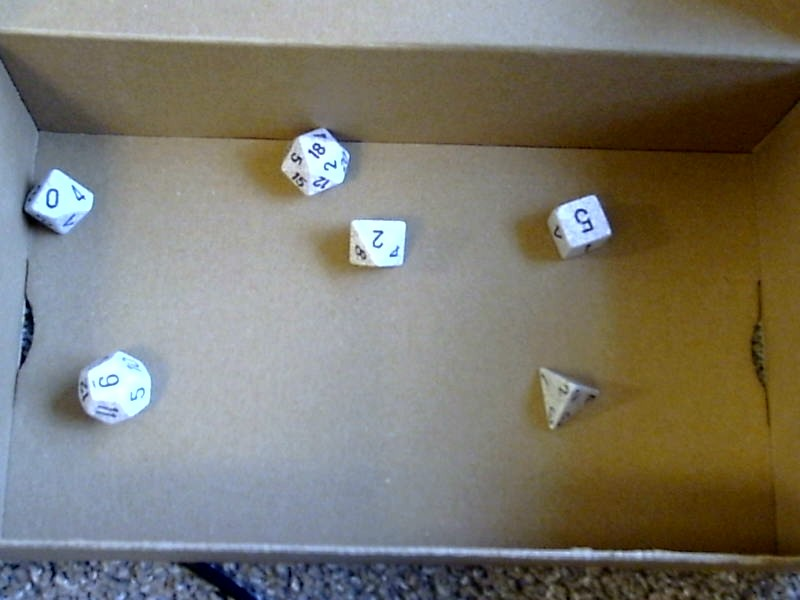d10 10: (15, 163, 95, 243)
d12 9: (71, 345, 154, 431)
d20 18: (276, 125, 351, 201)
d4 2: (534, 362, 598, 437)
d6 5: (543, 188, 625, 265)
d8 2: (343, 217, 409, 269)
